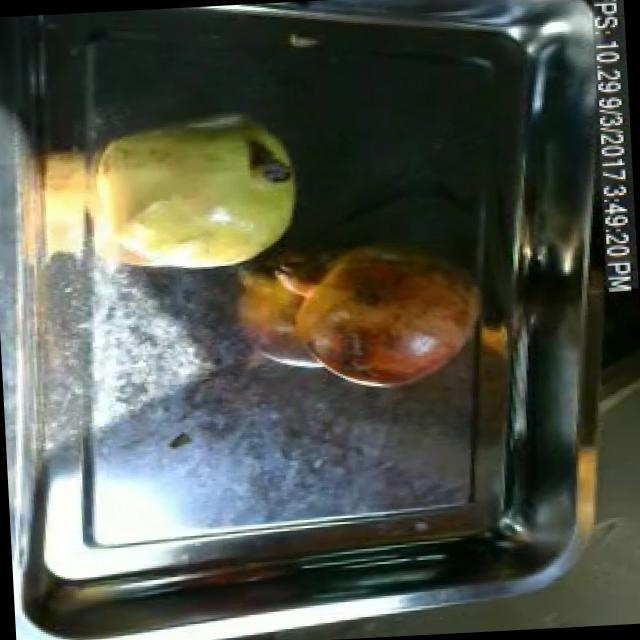fruit: (56, 96, 314, 290), (276, 235, 495, 400)
